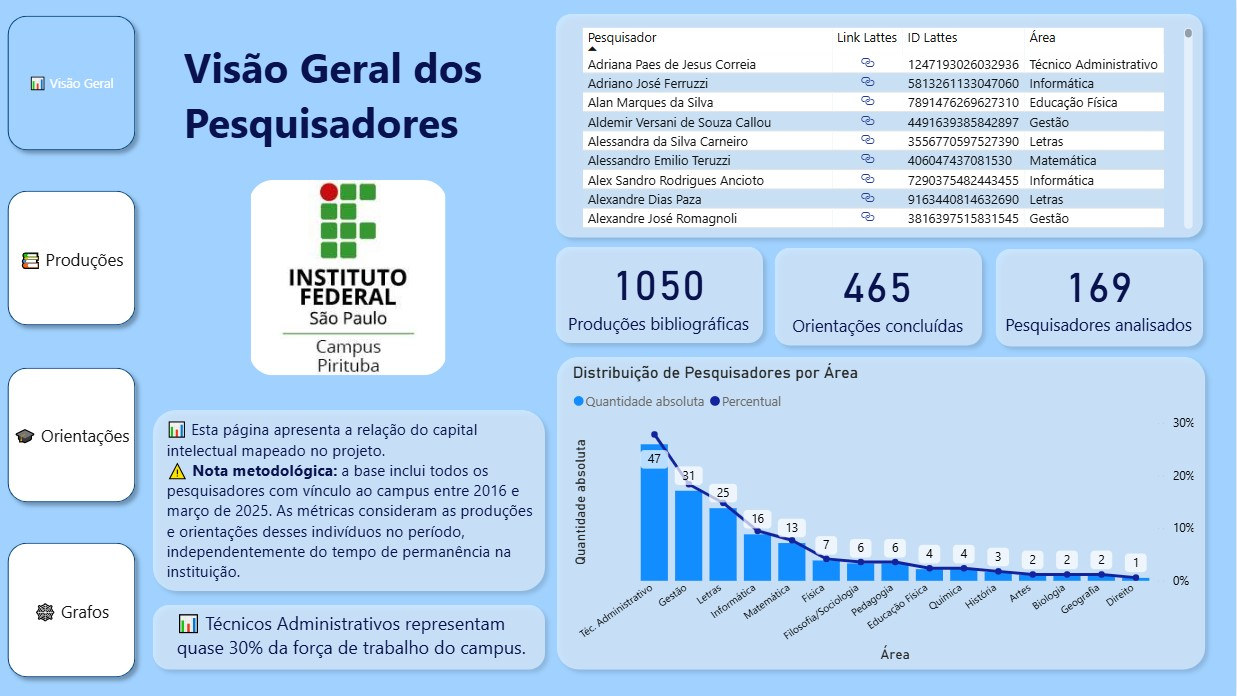

The dashboard page shown, as its layout file describes it:
{"tool":"powerbi","page":{"name":"📊 Visão Geral","canvas":[1280,720],"ordinal":0},"visuals":[{"type":"shape","box":[0,7.1,150,157.1],"z":0},{"type":"shape","box":[0,188.6,150,157.1],"z":1000},{"type":"shape","box":[0,371.4,150,157.1],"z":2000},{"type":"shape","box":[0,552.9,150,157.1],"z":3000},{"type":"shape","box":[150.2,415.3,423.8,205.5],"z":4000},{"type":"shape","box":[566.9,246.6,232.4,117.6],"z":5000},{"type":"shape","box":[793.7,246.9,232.4,119.1],"z":6000},{"type":"shape","box":[1021.9,248,232.4,119.1],"z":7000},{"type":"shape","box":[566.9,5.7,687.4,249.4],"z":8000},{"type":"shape","box":[568.3,360,688.8,341.6],"z":9000},{"type":"lineStackedColumnComboChart","title":"Distribuição de Pesquisadores por Área","fields":{"Y":["Count(metricas.Nome)"],"Category":["metricas.Rótulo/Grupo"],"Y2":["Divide(Count(metricas.Nome), ScopedEval(Count(metricas.Nome), []))"]},"box":[588.2,375.6,652,314.6],"z":10000},{"type":"tableEx","fields":{"Values":["lattes.Pesquisador","lattes.Link Lattes","lattes.ID Lattes","lattes.Área"]},"box":[598.1,24.1,642,218.3],"z":11000},{"type":"textbox","box":[186.7,35,353.3,138.3],"z":12000},{"type":"card","fields":{"Values":["CountNonNull(Dim_Pesq_Areas.Nome)"]},"box":[1028.6,244.3,218.6,118.6],"z":13000},{"type":"card","fields":{"Values":["Sum(Fato_Orientacoes.Qtd orientações)"]},"box":[800,251.4,218.6,104.3],"z":14000},{"type":"card","fields":{"Values":["Sum(Fato_Producoes.Qtd produções)"]},"box":[579.7,253.7,205.5,97.8],"z":15000},{"type":"textbox","box":[168.7,428,389.8,180],"z":16000},{"type":"pageNavigator","box":[0,0,150,720],"z":17000},{"type":"shape","box":[150.2,616.5,423.8,85],"z":18000},{"type":"textbox","box":[178.6,626.5,389.8,63.8],"z":19000},{"type":"image","box":[258.3,186.7,205,201.7],"z":20000}]}

Visuals, with their boxes in screenshot pixels (x1, y1, x2, y2), scaled from the page's 1280x720 canvas onto the 1237x696 screenshot:
shape: detection(0, 7, 145, 159)
shape: detection(0, 182, 145, 334)
shape: detection(0, 359, 145, 511)
shape: detection(0, 534, 145, 686)
shape: detection(145, 401, 555, 600)
shape: detection(548, 238, 772, 352)
shape: detection(767, 239, 992, 354)
shape: detection(988, 240, 1212, 355)
shape: detection(548, 6, 1212, 247)
shape: detection(549, 348, 1215, 678)
"Distribuição de Pesquisadores por Área" lineStackedColumnComboChart: detection(568, 363, 1199, 667)
tableEx - lattes.Pesquisador x lattes.Link Lattes: detection(578, 23, 1198, 234)
textbox: detection(180, 34, 522, 168)
card - CountNonNull(Dim_Pesq_Areas.Nome): detection(994, 236, 1205, 351)
card - Sum(Fato_Orientacoes.Qtd orientações): detection(773, 243, 984, 344)
card - Sum(Fato_Producoes.Qtd produções): detection(560, 245, 759, 340)
textbox: detection(163, 414, 540, 588)
pageNavigator: detection(0, 0, 145, 695)
shape: detection(145, 596, 555, 678)
textbox: detection(173, 606, 549, 667)
image: detection(250, 180, 448, 375)
